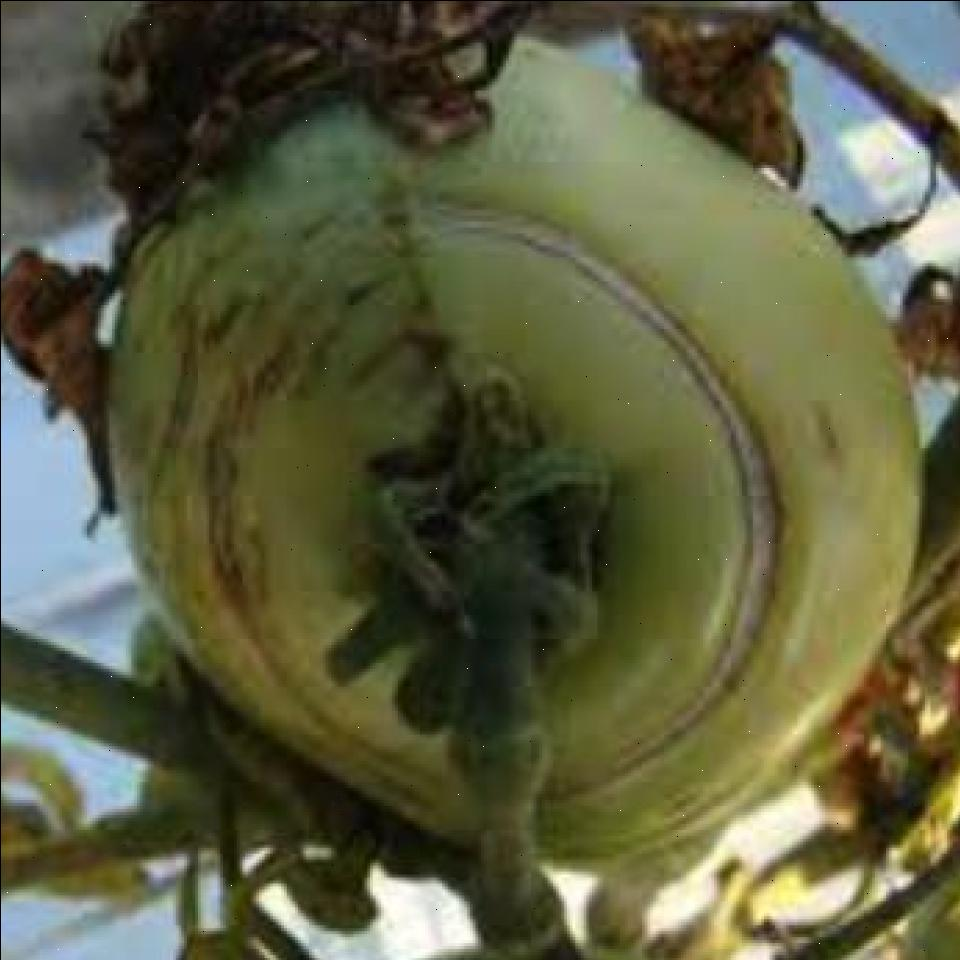Cracking: (308, 170, 806, 828), (107, 176, 447, 824)
